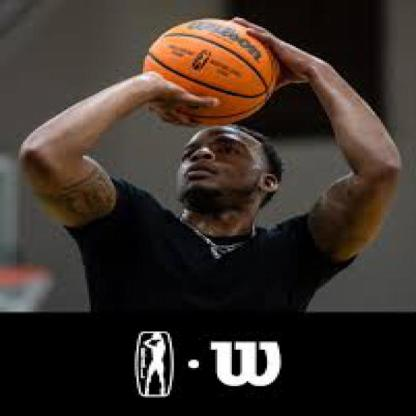basketball: (141, 18, 275, 126)
